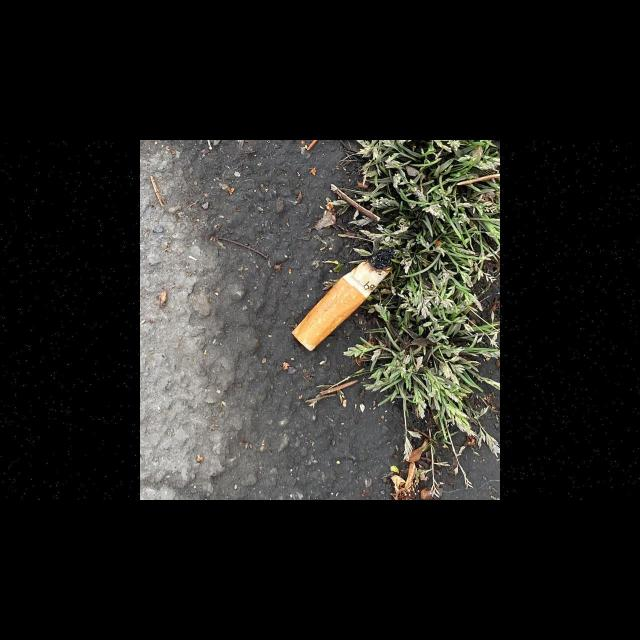cigarette: (291, 246, 397, 352)
